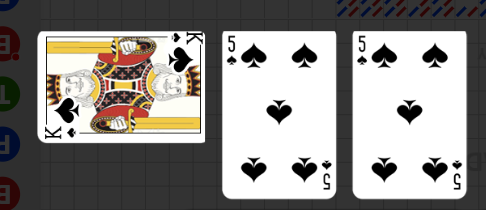5S: (451, 157, 463, 191), (226, 34, 238, 67)
KS: (43, 125, 79, 141)
